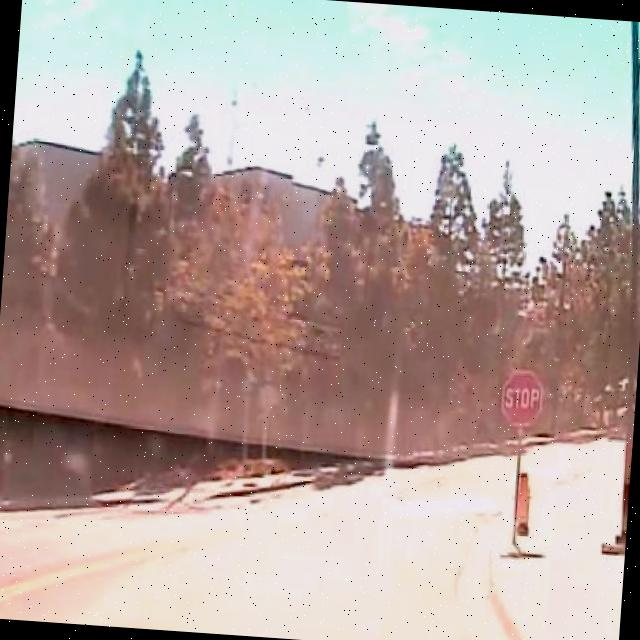Stop: (498, 369, 544, 433)
